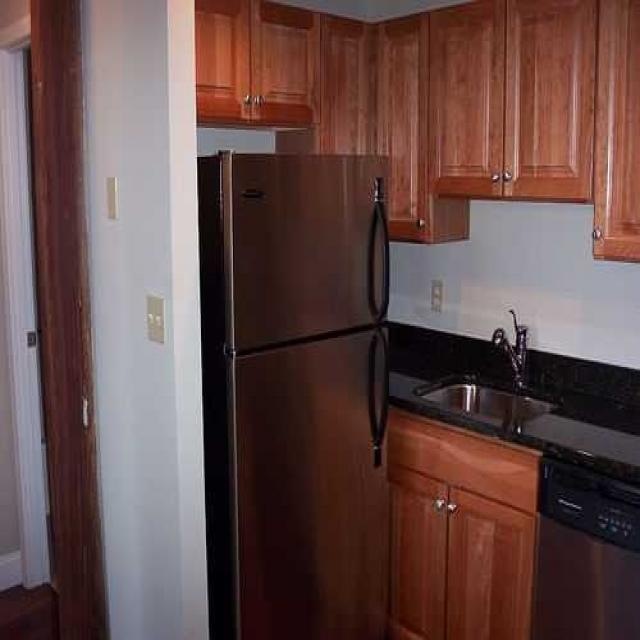refrigerator: (207, 133, 395, 629)
